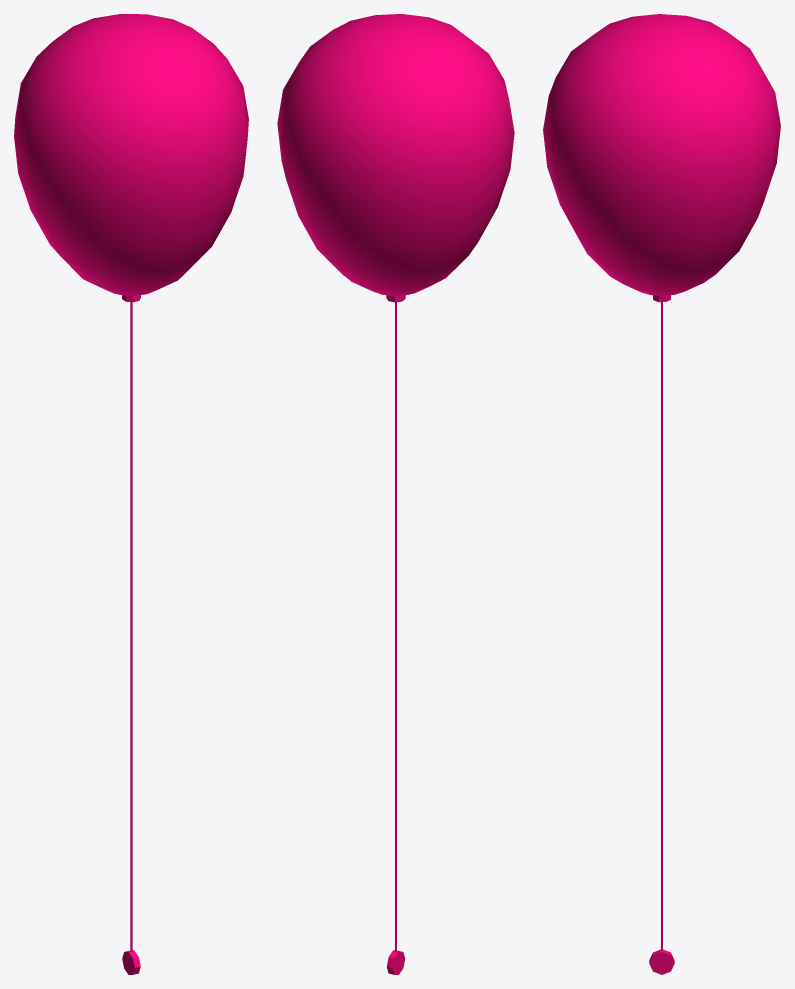
File: BalloonI.fbx
The picture shows the model from 3 angles, left to right: view 1: azimuth 30°, elevation 25°; view 2: azimuth 150°, elevation 25°; view 3: azimuth 270°, elevation 25°; orthographic projection.
Visible parts, largest first — view 1: BalloonI(FreeColor); view 2: BalloonI(FreeColor); view 3: BalloonI(FreeColor).
Boxes of the visible parts, <box> form: BalloonI(FreeColor): <box>14,14,248,974</box>; BalloonI(FreeColor): <box>277,14,514,974</box>; BalloonI(FreeColor): <box>543,14,780,974</box>.
Bounding box in the file's own units: 275 × 1208 × 275.
